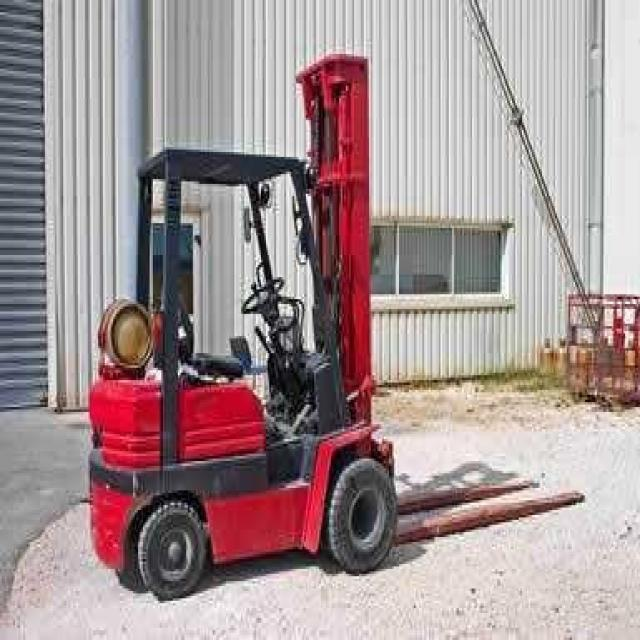forklift: (91, 49, 399, 603)
